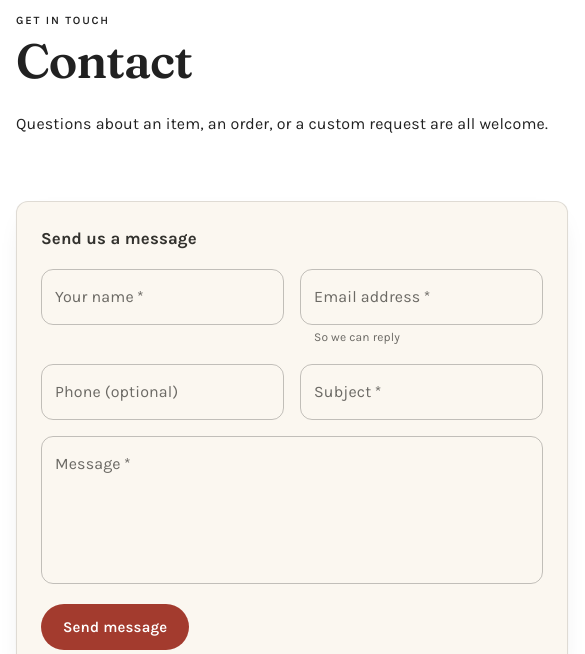
it: Contact form › marks the fields the server rejected
Type "Asha Menon" into the field labelled "Your name *" at (162, 297), box left=41, top=269, right=284, bottom=325
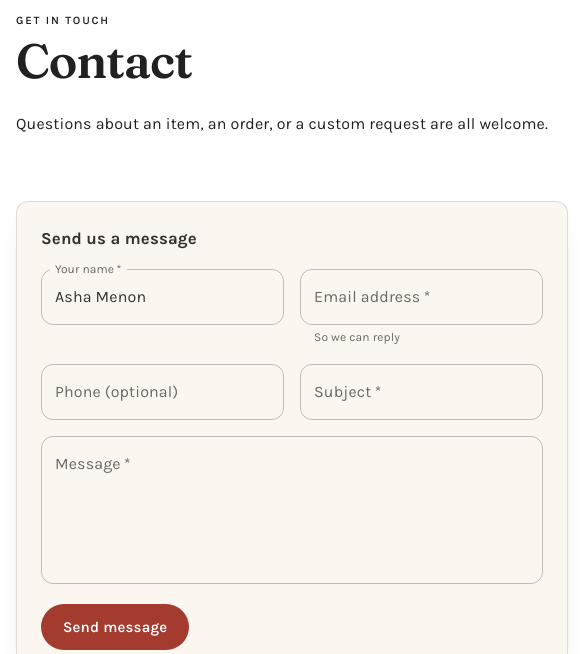
Type "asha@example.com" into the field labelled "Email address *" at (422, 297), box left=300, top=269, right=543, bottom=325
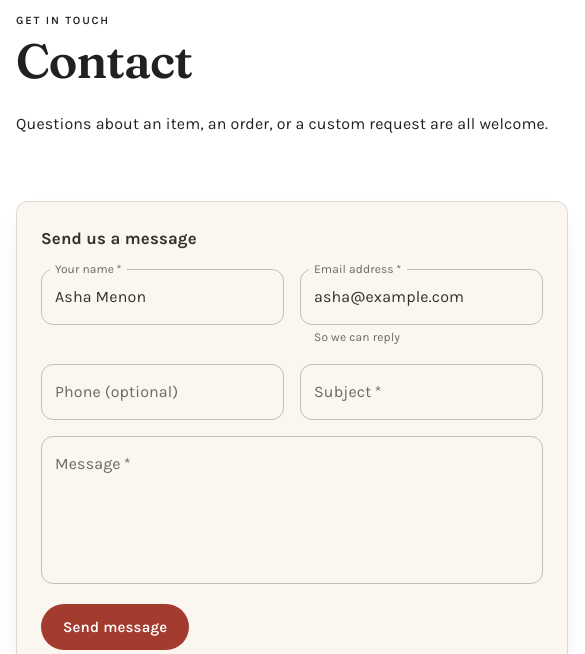
Type "A question" into the field labelled "Subject *" at (422, 392), box left=300, top=364, right=543, bottom=420
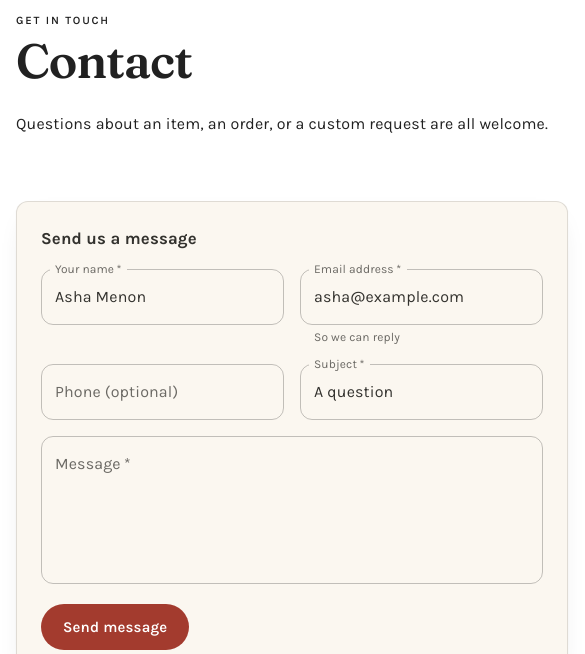
Type "Do you ship to Kochi?" into the text box labelled "Message *" at (292, 510), box left=55, top=452, right=529, bottom=567
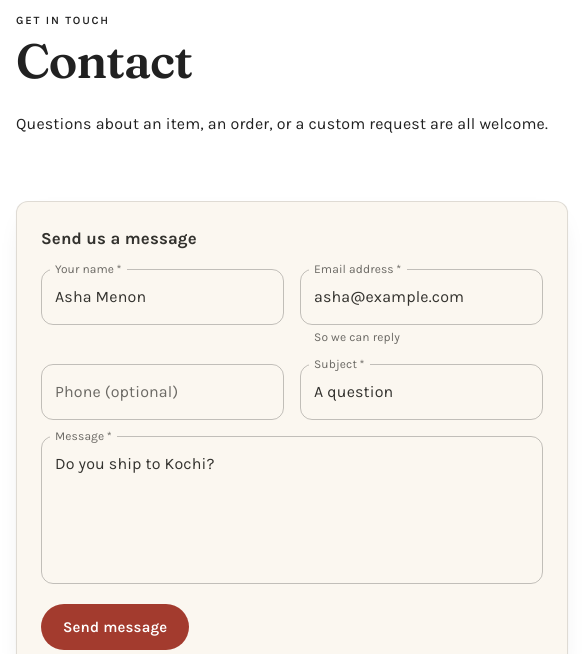
Click the button "Send message" at (115, 627), box left=41, top=604, right=189, bottom=650
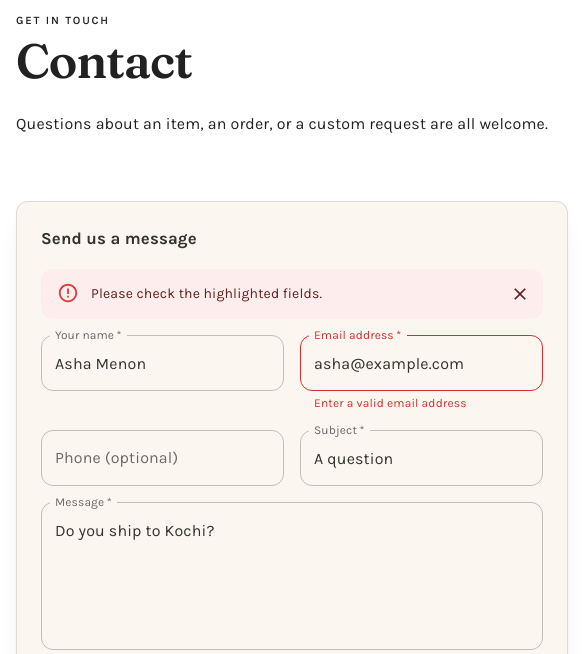
Check: the text "Enter a valid email address" is shown, box left=314, top=396, right=467, bottom=410
